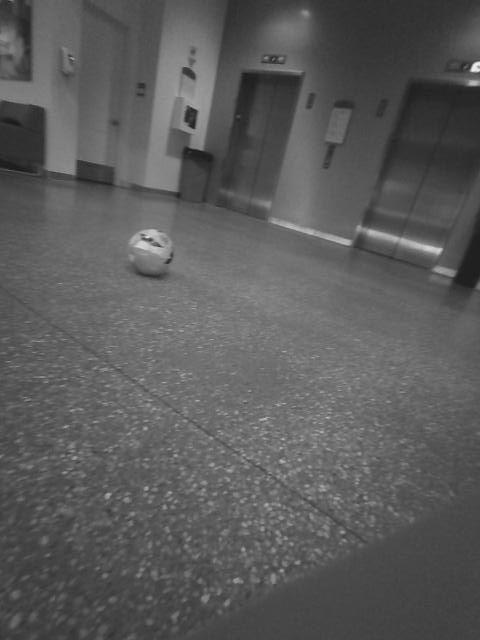ball: (122, 226, 180, 280)
